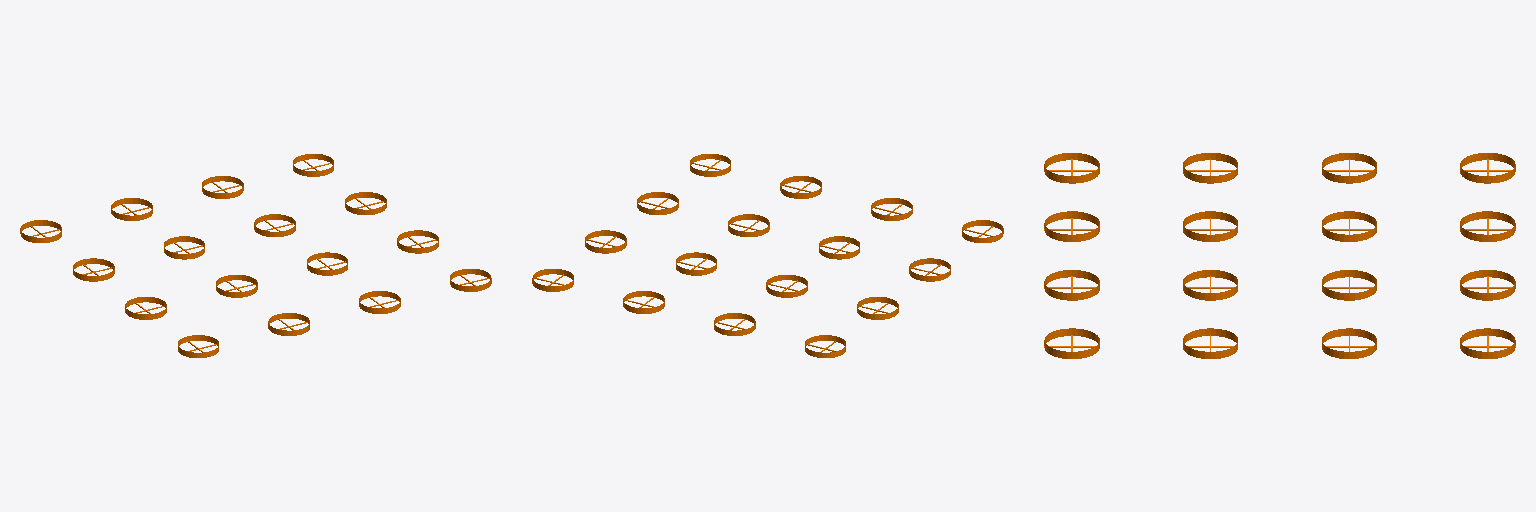
--- Facts derived from the render (not from the file) ---
3 views of the same robot in one strip: view 1: azimuth 30°, elevation 25°; view 2: azimuth 150°, elevation 25°; view 3: azimuth 270°, elevation 25° (orthographic).
Robot: 2x2 — 17 links, 16 joints (16 fixed); root link robot_base; default pose: all joints at 0.
Links seen in each view (by area): view 1: propellerrespondable10, propellerrespondable8, propellerrespondable12, propellerrespondable15, propellerrespondable1, propellerrespondable3, propellerrespondable5, propellerrespondable6, propellerrespondable13, propellerrespondable11, propellerrespondable16, propellerrespondable2 (+4 smaller); view 2: propellerrespondable15, propellerrespondable1, propellerrespondable10, propellerrespondable13, propellerrespondable3, propellerrespondable4, propellerrespondable6, propellerrespondable8, propellerrespondable12, propellerrespondable14, propellerrespondable9, propellerrespondable7 (+4 smaller); view 3: propellerrespondable3, propellerrespondable6, propellerrespondable11, propellerrespondable14, propellerrespondable12, propellerrespondable13, propellerrespondable4, propellerrespondable5, propellerrespondable2, propellerrespondable7, propellerrespondable10, propellerrespondable15 (+4 smaller).
Link boxes in pixels (bbox=[...]): propellerrespondable10: bbox=[73, 258, 114, 281]; propellerrespondable8: bbox=[397, 230, 438, 253]; propellerrespondable12: bbox=[111, 198, 152, 220]; propellerrespondable15: bbox=[125, 297, 166, 319]; propellerrespondable1: bbox=[345, 192, 386, 214]; propellerrespondable3: bbox=[202, 176, 243, 198]; propellerrespondable5: bbox=[450, 269, 491, 291]; propellerrespondable6: bbox=[359, 291, 400, 313]; propellerrespondable13: bbox=[268, 313, 309, 335]; propellerrespondable11: bbox=[20, 220, 61, 242]; propellerrespondable16: bbox=[216, 275, 257, 297]; propellerrespondable2: bbox=[254, 214, 295, 236]; propellerrespondable15: bbox=[909, 258, 950, 281]; propellerrespondable1: bbox=[585, 230, 626, 253]; propellerrespondable10: bbox=[857, 297, 898, 319]; propellerrespondable13: bbox=[871, 198, 912, 220]; propellerrespondable3: bbox=[623, 291, 664, 313]; propellerrespondable4: bbox=[532, 269, 573, 291]; propellerrespondable6: bbox=[780, 176, 821, 198]; propellerrespondable8: bbox=[637, 192, 678, 214]; propellerrespondable12: bbox=[714, 313, 755, 335]; propellerrespondable14: bbox=[962, 220, 1003, 242]; propellerrespondable9: bbox=[766, 275, 807, 297]; propellerrespondable7: bbox=[728, 214, 769, 236]; propellerrespondable3: bbox=[1460, 270, 1515, 300]; propellerrespondable6: bbox=[1044, 270, 1099, 300]; propellerrespondable11: bbox=[1460, 153, 1515, 183]; propellerrespondable14: bbox=[1044, 153, 1099, 183]; propellerrespondable12: bbox=[1460, 211, 1515, 241]; propellerrespondable13: bbox=[1044, 211, 1099, 241]; propellerrespondable4: bbox=[1460, 328, 1515, 358]; propellerrespondable5: bbox=[1044, 328, 1099, 358]; propellerrespondable2: bbox=[1322, 270, 1376, 300]; propellerrespondable7: bbox=[1183, 270, 1237, 300]; propellerrespondable10: bbox=[1322, 153, 1376, 183]; propellerrespondable15: bbox=[1183, 153, 1237, 183].
Size in the robot's own frame: 0.34 by 0.34 by 0.006 metres.
16 mesh visuals loaded from 2 distinct referenced files (1 Collada DAE); not drawn: 4 (reference not matched to a file when rendering).

The robot description file, URDF, robot "2x2":
<?xml version="1.0"?>
<robot name="2x2">
    <properties arm="0.0397" kf="3.16e-10" km="7.94e-12" thrust2weight="2.25" max_speed_kmh="30" gnd_eff_coeff="11.36859" prop_radius="2.31348e-2" drag_coeff_xy="9.1785e-7" drag_coeff_z="10.311e-7" dw_coeff_1="2267.18" dw_coeff_2=".16" dw_coeff_3="-.11" />
    <link name="robot_base">
        <inertial>
            <origin rpy="0 0 0" xyz="0 0 0" />
            <inertia ixx="0.003744000000000001" ixz="0.0" ixy="0.0" iyy="0.003744000000000001" iyz="0.0" izz="0.0072000000000000015" />
            <mass value="0.54" />
        </inertial>
                
        <collision name="MultiRotor">
            <origin xyz="0.0 0.0 0.0" rpy="0.0 0.0 0.0"/>
            <geometry>
                <box size="0.4 0.4 0.08" />
            </geometry>
        </collision>
        
        <visual name="Shape1">
            <origin xyz="0.1 0.1 0.040000" rpy="0 -1.570796 0.000000" />
            <geometry>
                <mesh filename="./module_vis.dae" />
            </geometry>
            <material name="Shape0_material">
                <color rgba="0.1804 0.1804 0.1804 1.0" />
            </material>
        </visual>
                
        <visual name="Shape2">
            <origin xyz="0.1 -0.1 0.040000" rpy="0 -1.570796 0.000000" />
            <geometry>
                <mesh filename="./module_vis.dae" />
            </geometry>
            <material name="Shape0_material">
                <color rgba="0.1804 0.1804 0.1804 1.0" />
            </material>
        </visual>
                
        <visual name="Shape3">
            <origin xyz="-0.1 0.1 0.040000" rpy="0 -1.570796 0.000000" />
            <geometry>
                <mesh filename="./module_vis.dae" />
            </geometry>
            <material name="Shape0_material">
                <color rgba="0.1804 0.1804 0.1804 1.0" />
            </material>
        </visual>
                
        <visual name="Shape4">
            <origin xyz="-0.1 -0.1 0.040000" rpy="0 -1.570796 0.000000" />
            <geometry>
                <mesh filename="./module_vis.dae" />
            </geometry>
            <material name="Shape0_material">
                <color rgba="0.1804 0.1804 0.1804 1.0" />
            </material>
        </visual>
                
    </link>
        
        <joint name="propeller1" type="fixed">
            <axis xyz="0 0 1" />
            <parent link="robot_base" />
            <child link="propellerrespondable1" />
            <origin xyz="0.15000000000000002 0.05 0.03" rpy="0 0 0" />
        </joint>
        <link name="propellerrespondable1">
            <inertial>
                <origin rpy="0 0 0" xyz="-0.000000 0.000000 0.012000" />
                <inertia izz="1.5977926901062e-07" ixx="8.2325171633286e-08" ixy="-5.0583716089947e-21" iyz="-5.6129890954029e-16" iyy="8.2325156656747e-08" ixz="5.7933230213793e-16" />
                <mass value="0.0" />
            </inertial>
            <collision name="propeller_respondable1">
                <origin xyz="-0.000000 0.000000 0.012000" rpy="3.141593 3.141593 1.865350" />
                <geometry>
                    <cylinder length="0.0075362827628851" radius="0.024999996647239" />
                </geometry>
            </collision>
            <visual name="propeller_body1">
                <origin xyz="-0.000000 0.000000 0.012000" rpy="0 0 0" />
                <geometry>
                    <mesh filename="./propeller_vis.dae" />
                </geometry>
                <material name="propellerbody_material">
                    <color rgba="1 0.5294 0 0.9" />
                </material>
            </visual>
        </link>
                    
        <joint name="propeller2" type="fixed">
            <axis xyz="0 0 1" />
            <parent link="robot_base" />
            <child link="propellerrespondable2" />
            <origin xyz="0.05 0.05 0.03" rpy="0 0 0" />
        </joint>
        <link name="propellerrespondable2">
            <inertial>
                <origin rpy="0 0 0" xyz="-0.000000 0.000000 0.012000" />
                <inertia izz="1.5977926901062e-07" ixx="8.2325171633286e-08" ixy="-5.0583716089947e-21" iyz="-5.6129890954029e-16" iyy="8.2325156656747e-08" ixz="5.7933230213793e-16" />
                <mass value="0.0" />
            </inertial>
            <collision name="propeller_respondable2">
                <origin xyz="-0.000000 0.000000 0.012000" rpy="3.141593 3.141593 1.865350" />
                <geometry>
                    <cylinder length="0.0075362827628851" radius="0.024999996647239" />
                </geometry>
            </collision>
            <visual name="propeller_body2">
                <origin xyz="-0.000000 0.000000 0.012000" rpy="0 0 0" />
                <geometry>
                    <mesh filename="./propeller_vis.dae" />
                </geometry>
                <material name="propellerbody_material">
                    <color rgba="1 0.5294 0 0.9" />
                </material>
            </visual>
        </link>
                    
        <joint name="propeller3" type="fixed">
            <axis xyz="0 0 1" />
            <parent link="robot_base" />
            <child link="propellerrespondable3" />
            <origin xyz="0.05 0.15000000000000002 0.03" rpy="0 0 0" />
        </joint>
        <link name="propellerrespondable3">
            <inertial>
                <origin rpy="0 0 0" xyz="-0.000000 0.000000 0.012000" />
                <inertia izz="1.5977926901062e-07" ixx="8.2325171633286e-08" ixy="-5.0583716089947e-21" iyz="-5.6129890954029e-16" iyy="8.2325156656747e-08" ixz="5.7933230213793e-16" />
                <mass value="0.0" />
            </inertial>
            <collision name="propeller_respondable3">
                <origin xyz="-0.000000 0.000000 0.012000" rpy="3.141593 3.141593 1.865350" />
                <geometry>
                    <cylinder length="0.0075362827628851" radius="0.024999996647239" />
                </geometry>
            </collision>
            <visual name="propeller_body3">
                <origin xyz="-0.000000 0.000000 0.012000" rpy="0 0 0" />
                <geometry>
                    <mesh filename="./propeller_vis.dae" />
                </geometry>
                <material name="propellerbody_material">
                    <color rgba="1 0.5294 0 0.9" />
                </material>
            </visual>
        </link>
                    
        <joint name="propeller4" type="fixed">
            <axis xyz="0 0 1" />
            <parent link="robot_base" />
            <child link="propellerrespondable4" />
            <origin xyz="0.15000000000000002 0.15000000000000002 0.03" rpy="0 0 0" />
        </joint>
        <link name="propellerrespondable4">
            <inertial>
                <origin rpy="0 0 0" xyz="-0.000000 0.000000 0.012000" />
                <inertia izz="1.5977926901062e-07" ixx="8.2325171633286e-08" ixy="-5.0583716089947e-21" iyz="-5.6129890954029e-16" iyy="8.2325156656747e-08" ixz="5.7933230213793e-16" />
                <mass value="0.0" />
            </inertial>
            <collision name="propeller_respondable4">
                <origin xyz="-0.000000 0.000000 0.012000" rpy="3.141593 3.141593 1.865350" />
                <geometry>
                    <cylinder length="0.0075362827628851" radius="0.024999996647239" />
                </geometry>
            </collision>
            <visual name="propeller_body4">
                <origin xyz="-0.000000 0.000000 0.012000" rpy="0 0 0" />
                <geometry>
                    <mesh filename="./propeller_vis.dae" />
                </geometry>
                <material name="propellerbody_material">
                    <color rgba="1 0.5294 0 0.9" />
                </material>
            </visual>
        </link>
                    
        <joint name="propeller5" type="fixed">
            <axis xyz="0 0 1" />
            <parent link="robot_base" />
            <child link="propellerrespondable5" />
            <origin xyz="0.15000000000000002 -0.15000000000000002 0.03" rpy="0 0 0" />
        </joint>
        <link name="propellerrespondable5">
            <inertial>
                <origin rpy="0 0 0" xyz="-0.000000 0.000000 0.012000" />
                <inertia izz="1.5977926901062e-07" ixx="8.2325171633286e-08" ixy="-5.0583716089947e-21" iyz="-5.6129890954029e-16" iyy="8.2325156656747e-08" ixz="5.7933230213793e-16" />
                <mass value="0.0" />
            </inertial>
            <collision name="propeller_respondable5">
                <origin xyz="-0.000000 0.000000 0.012000" rpy="3.141593 3.141593 1.865350" />
                <geometry>
                    <cylinder length="0.0075362827628851" radius="0.024999996647239" />
                </geometry>
            </collision>
            <visual name="propeller_body5">
                <origin xyz="-0.000000 0.000000 0.012000" rpy="0 0 0" />
                <geometry>
                    <mesh filename="./propeller_vis.dae" />
                </geometry>
                <material name="propellerbody_material">
                    <color rgba="1 0.5294 0 0.9" />
                </material>
            </visual>
        </link>
                    
        <joint name="propeller6" type="fixed">
            <axis xyz="0 0 1" />
            <parent link="robot_base" />
            <child link="propellerrespondable6" />
            <origin xyz="0.05 -0.15000000000000002 0.03" rpy="0 0 0" />
        </joint>
        <link name="propellerrespondable6">
            <inertial>
                <origin rpy="0 0 0" xyz="-0.000000 0.000000 0.012000" />
                <inertia izz="1.5977926901062e-07" ixx="8.2325171633286e-08" ixy="-5.0583716089947e-21" iyz="-5.6129890954029e-16" iyy="8.2325156656747e-08" ixz="5.7933230213793e-16" />
                <mass value="0.0" />
            </inertial>
            <collision name="propeller_respondable6">
                <origin xyz="-0.000000 0.000000 0.012000" rpy="3.141593 3.141593 1.865350" />
                <geometry>
                    <cylinder length="0.0075362827628851" radius="0.024999996647239" />
                </geometry>
            </collision>
            <visual name="propeller_body6">
                <origin xyz="-0.000000 0.000000 0.012000" rpy="0 0 0" />
                <geometry>
                    <mesh filename="./propeller_vis.dae" />
                </geometry>
                <material name="propellerbody_material">
                    <color rgba="1 0.5294 0 0.9" />
                </material>
            </visual>
        </link>
                    
        <joint name="propeller7" type="fixed">
            <axis xyz="0 0 1" />
            <parent link="robot_base" />
            <child link="propellerrespondable7" />
            <origin xyz="0.05 -0.05 0.03" rpy="0 0 0" />
        </joint>
        <link name="propellerrespondable7">
            <inertial>
                <origin rpy="0 0 0" xyz="-0.000000 0.000000 0.012000" />
                <inertia izz="1.5977926901062e-07" ixx="8.2325171633286e-08" ixy="-5.0583716089947e-21" iyz="-5.6129890954029e-16" iyy="8.2325156656747e-08" ixz="5.7933230213793e-16" />
                <mass value="0.0" />
            </inertial>
            <collision name="propeller_respondable7">
                <origin xyz="-0.000000 0.000000 0.012000" rpy="3.141593 3.141593 1.865350" />
                <geometry>
                    <cylinder length="0.0075362827628851" radius="0.024999996647239" />
                </geometry>
            </collision>
            <visual name="propeller_body7">
                <origin xyz="-0.000000 0.000000 0.012000" rpy="0 0 0" />
                <geometry>
                    <mesh filename="./propeller_vis.dae" />
                </geometry>
                <material name="propellerbody_material">
                    <color rgba="1 0.5294 0 0.9" />
                </material>
            </visual>
        </link>
                    
        <joint name="propeller8" type="fixed">
            <axis xyz="0 0 1" />
            <parent link="robot_base" />
            <child link="propellerrespondable8" />
            <origin xyz="0.15000000000000002 -0.05 0.03" rpy="0 0 0" />
        </joint>
        <link name="propellerrespondable8">
            <inertial>
                <origin rpy="0 0 0" xyz="-0.000000 0.000000 0.012000" />
                <inertia izz="1.5977926901062e-07" ixx="8.2325171633286e-08" ixy="-5.0583716089947e-21" iyz="-5.6129890954029e-16" iyy="8.2325156656747e-08" ixz="5.7933230213793e-16" />
                <mass value="0.0" />
            </inertial>
            <collision name="propeller_respondable8">
                <origin xyz="-0.000000 0.000000 0.012000" rpy="3.141593 3.141593 1.865350" />
                <geometry>
                    <cylinder length="0.0075362827628851" radius="0.024999996647239" />
                </geometry>
            </collision>
            <visual name="propeller_body8">
                <origin xyz="-0.000000 0.000000 0.012000" rpy="0 0 0" />
                <geometry>
                    <mesh filename="./propeller_vis.dae" />
                </geometry>
                <material name="propellerbody_material">
                    <color rgba="1 0.5294 0 0.9" />
                </material>
            </visual>
        </link>
                    
        <joint name="propeller9" type="fixed">
            <axis xyz="0 0 1" />
            <parent link="robot_base" />
            <child link="propellerrespondable9" />
            <origin xyz="-0.05 0.05 0.03" rpy="0 0 0" />
        </joint>
        <link name="propellerrespondable9">
            <inertial>
                <origin rpy="0 0 0" xyz="-0.000000 0.000000 0.012000" />
                <inertia izz="1.5977926901062e-07" ixx="8.2325171633286e-08" ixy="-5.0583716089947e-21" iyz="-5.6129890954029e-16" iyy="8.2325156656747e-08" ixz="5.7933230213793e-16" />
                <mass value="0.0" />
            </inertial>
            <collision name="propeller_respondable9">
                <origin xyz="-0.000000 0.000000 0.012000" rpy="3.141593 3.141593 1.865350" />
                <geometry>
                    <cylinder length="0.0075362827628851" radius="0.024999996647239" />
                </geometry>
            </collision>
            <visual name="propeller_body9">
                <origin xyz="-0.000000 0.000000 0.012000" rpy="0 0 0" />
                <geometry>
                    <mesh filename="./propeller_vis.dae" />
                </geometry>
                <material name="propellerbody_material">
                    <color rgba="1 0.5294 0 0.9" />
                </material>
            </visual>
        </link>
                    
        <joint name="propeller10" type="fixed">
            <axis xyz="0 0 1" />
            <parent link="robot_base" />
            <child link="propellerrespondable10" />
            <origin xyz="-0.15000000000000002 0.05 0.03" rpy="0 0 0" />
        </joint>
        <link name="propellerrespondable10">
            <inertial>
                <origin rpy="0 0 0" xyz="-0.000000 0.000000 0.012000" />
                <inertia izz="1.5977926901062e-07" ixx="8.2325171633286e-08" ixy="-5.0583716089947e-21" iyz="-5.6129890954029e-16" iyy="8.2325156656747e-08" ixz="5.7933230213793e-16" />
                <mass value="0.0" />
            </inertial>
            <collision name="propeller_respondable10">
                <origin xyz="-0.000000 0.000000 0.012000" rpy="3.141593 3.141593 1.865350" />
                <geometry>
                    <cylinder length="0.0075362827628851" radius="0.024999996647239" />
                </geometry>
            </collision>
            <visual name="propeller_body10">
                <origin xyz="-0.000000 0.000000 0.012000" rpy="0 0 0" />
                <geometry>
                    <mesh filename="./propeller_vis.dae" />
                </geometry>
                <material name="propellerbody_material">
                    <color rgba="1 0.5294 0 0.9" />
                </material>
            </visual>
        </link>
                    
        <joint name="propeller11" type="fixed">
            <axis xyz="0 0 1" />
            <parent link="robot_base" />
            <child link="propellerrespondable11" />
            <origin xyz="-0.15000000000000002 0.15000000000000002 0.03" rpy="0 0 0" />
        </joint>
        <link name="propellerrespondable11">
            <inertial>
                <origin rpy="0 0 0" xyz="-0.000000 0.000000 0.012000" />
                <inertia izz="1.5977926901062e-07" ixx="8.2325171633286e-08" ixy="-5.0583716089947e-21" iyz="-5.6129890954029e-16" iyy="8.2325156656747e-08" ixz="5.7933230213793e-16" />
                <mass value="0.0" />
            </inertial>
            <collision name="propeller_respondable11">
                <origin xyz="-0.000000 0.000000 0.012000" rpy="3.141593 3.141593 1.865350" />
                <geometry>
                    <cylinder length="0.0075362827628851" radius="0.024999996647239" />
                </geometry>
            </collision>
            <visual name="propeller_body11">
                <origin xyz="-0.000000 0.000000 0.012000" rpy="0 0 0" />
                <geometry>
                    <mesh filename="./propeller_vis.dae" />
                </geometry>
                <material name="propellerbody_material">
                    <color rgba="1 0.5294 0 0.9" />
                </material>
            </visual>
        </link>
                    
        <joint name="propeller12" type="fixed">
            <axis xyz="0 0 1" />
            <parent link="robot_base" />
            <child link="propellerrespondable12" />
            <origin xyz="-0.05 0.15000000000000002 0.03" rpy="0 0 0" />
        </joint>
        <link name="propellerrespondable12">
            <inertial>
                <origin rpy="0 0 0" xyz="-0.000000 0.000000 0.012000" />
                <inertia izz="1.5977926901062e-07" ixx="8.2325171633286e-08" ixy="-5.0583716089947e-21" iyz="-5.6129890954029e-16" iyy="8.2325156656747e-08" ixz="5.7933230213793e-16" />
                <mass value="0.0" />
            </inertial>
            <collision name="propeller_respondable12">
                <origin xyz="-0.000000 0.000000 0.012000" rpy="3.141593 3.141593 1.865350" />
                <geometry>
                    <cylinder length="0.0075362827628851" radius="0.024999996647239" />
                </geometry>
            </collision>
            <visual name="propeller_body12">
                <origin xyz="-0.000000 0.000000 0.012000" rpy="0 0 0" />
                <geometry>
                    <mesh filename="./propeller_vis.dae" />
                </geometry>
                <material name="propellerbody_material">
                    <color rgba="1 0.5294 0 0.9" />
                </material>
            </visual>
        </link>
                    
        <joint name="propeller13" type="fixed">
            <axis xyz="0 0 1" />
            <parent link="robot_base" />
            <child link="propellerrespondable13" />
            <origin xyz="-0.05 -0.15000000000000002 0.03" rpy="0 0 0" />
        </joint>
        <link name="propellerrespondable13">
            <inertial>
                <origin rpy="0 0 0" xyz="-0.000000 0.000000 0.012000" />
                <inertia izz="1.5977926901062e-07" ixx="8.2325171633286e-08" ixy="-5.0583716089947e-21" iyz="-5.6129890954029e-16" iyy="8.2325156656747e-08" ixz="5.7933230213793e-16" />
                <mass value="0.0" />
            </inertial>
            <collision name="propeller_respondable13">
                <origin xyz="-0.000000 0.000000 0.012000" rpy="3.141593 3.141593 1.865350" />
                <geometry>
                    <cylinder length="0.0075362827628851" radius="0.024999996647239" />
                </geometry>
            </collision>
            <visual name="propeller_body13">
                <origin xyz="-0.000000 0.000000 0.012000" rpy="0 0 0" />
                <geometry>
                    <mesh filename="./propeller_vis.dae" />
                </geometry>
                <material name="propellerbody_material">
                    <color rgba="1 0.5294 0 0.9" />
                </material>
            </visual>
        </link>
                    
        <joint name="propeller14" type="fixed">
            <axis xyz="0 0 1" />
            <parent link="robot_base" />
            <child link="propellerrespondable14" />
            <origin xyz="-0.15000000000000002 -0.15000000000000002 0.03" rpy="0 0 0" />
        </joint>
        <link name="propellerrespondable14">
            <inertial>
                <origin rpy="0 0 0" xyz="-0.000000 0.000000 0.012000" />
                <inertia izz="1.5977926901062e-07" ixx="8.2325171633286e-08" ixy="-5.0583716089947e-21" iyz="-5.6129890954029e-16" iyy="8.2325156656747e-08" ixz="5.7933230213793e-16" />
                <mass value="0.0" />
            </inertial>
            <collision name="propeller_respondable14">
                <origin xyz="-0.000000 0.000000 0.012000" rpy="3.141593 3.141593 1.865350" />
                <geometry>
                    <cylinder length="0.0075362827628851" radius="0.024999996647239" />
                </geometry>
            </collision>
            <visual name="propeller_body14">
                <origin xyz="-0.000000 0.000000 0.012000" rpy="0 0 0" />
                <geometry>
                    <mesh filename="./propeller_vis.dae" />
                </geometry>
                <material name="propellerbody_material">
                    <color rgba="1 0.5294 0 0.9" />
                </material>
            </visual>
        </link>
                    
        <joint name="propeller15" type="fixed">
            <axis xyz="0 0 1" />
            <parent link="robot_base" />
            <child link="propellerrespondable15" />
            <origin xyz="-0.15000000000000002 -0.05 0.03" rpy="0 0 0" />
        </joint>
        <link name="propellerrespondable15">
            <inertial>
                <origin rpy="0 0 0" xyz="-0.000000 0.000000 0.012000" />
                <inertia izz="1.5977926901062e-07" ixx="8.2325171633286e-08" ixy="-5.0583716089947e-21" iyz="-5.6129890954029e-16" iyy="8.2325156656747e-08" ixz="5.7933230213793e-16" />
                <mass value="0.0" />
            </inertial>
            <collision name="propeller_respondable15">
                <origin xyz="-0.000000 0.000000 0.012000" rpy="3.141593 3.141593 1.865350" />
                <geometry>
                    <cylinder length="0.0075362827628851" radius="0.024999996647239" />
                </geometry>
            </collision>
            <visual name="propeller_body15">
                <origin xyz="-0.000000 0.000000 0.012000" rpy="0 0 0" />
                <geometry>
                    <mesh filename="./propeller_vis.dae" />
                </geometry>
                <material name="propellerbody_material">
                    <color rgba="1 0.5294 0 0.9" />
                </material>
            </visual>
        </link>
                    
        <joint name="propeller16" type="fixed">
            <axis xyz="0 0 1" />
            <parent link="robot_base" />
            <child link="propellerrespondable16" />
            <origin xyz="-0.05 -0.05 0.03" rpy="0 0 0" />
        </joint>
        <link name="propellerrespondable16">
            <inertial>
                <origin rpy="0 0 0" xyz="-0.000000 0.000000 0.012000" />
                <inertia izz="1.5977926901062e-07" ixx="8.2325171633286e-08" ixy="-5.0583716089947e-21" iyz="-5.6129890954029e-16" iyy="8.2325156656747e-08" ixz="5.7933230213793e-16" />
                <mass value="0.0" />
            </inertial>
            <collision name="propeller_respondable16">
                <origin xyz="-0.000000 0.000000 0.012000" rpy="3.141593 3.141593 1.865350" />
                <geometry>
                    <cylinder length="0.0075362827628851" radius="0.024999996647239" />
                </geometry>
            </collision>
            <visual name="propeller_body16">
                <origin xyz="-0.000000 0.000000 0.012000" rpy="0 0 0" />
                <geometry>
                    <mesh filename="./propeller_vis.dae" />
                </geometry>
                <material name="propellerbody_material">
                    <color rgba="1 0.5294 0 0.9" />
                </material>
            </visual>
        </link>
                    
</robot>
        
